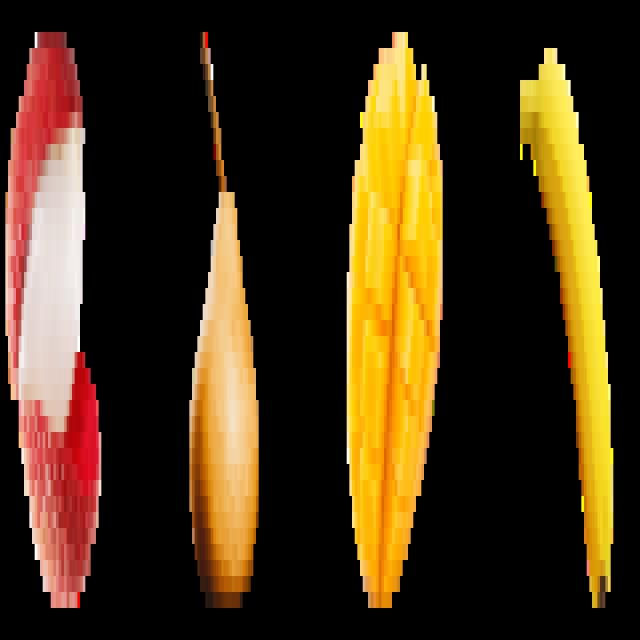bananas: (510, 23, 620, 622)
lychee: (2, 13, 106, 624)
mango: (344, 22, 446, 626)
pear: (186, 7, 266, 630)
